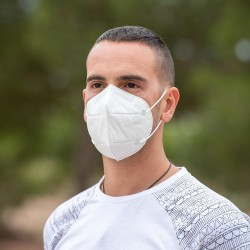with_mask: (87, 60, 155, 143)
